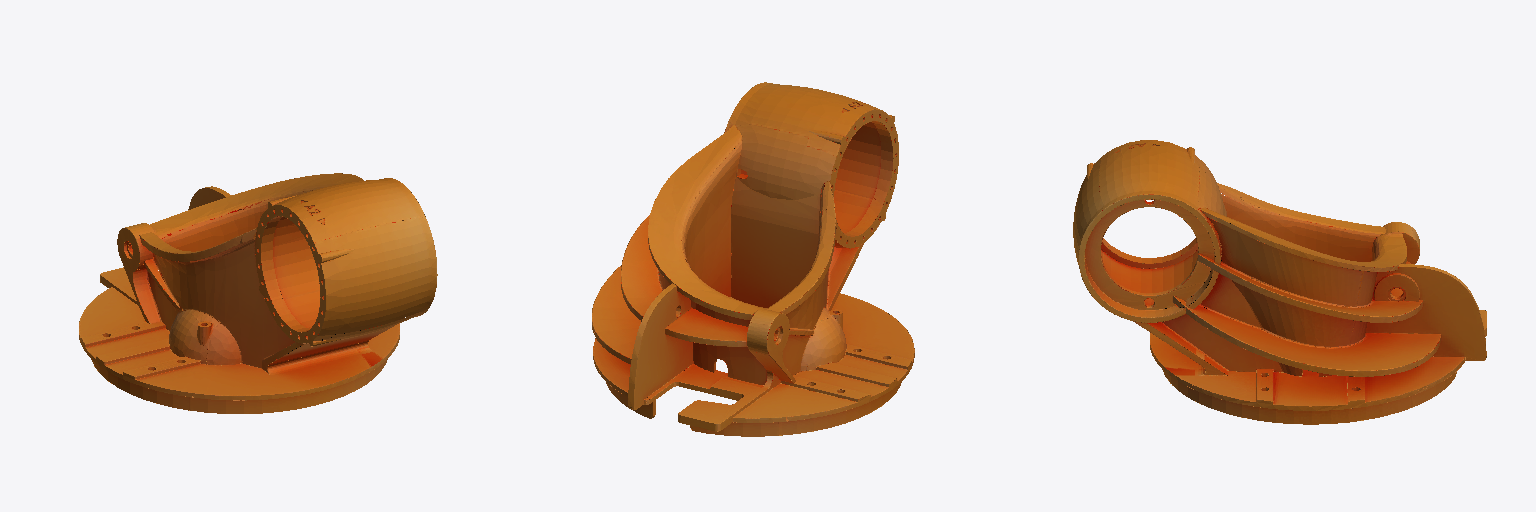
The picture shows the model from 3 angles: view 1: azimuth 30°, elevation 25°; view 2: azimuth 150°, elevation 25°; view 3: azimuth 270°, elevation 25°; orthographic projection.
Parts seen in each view (by area): view 1: Body_1_Body_1.001; view 2: Body_1_Body_1.001; view 3: Body_1_Body_1.001.
Part boxes in pixels (left/top/right/bottom): Body_1_Body_1.001: left=79, top=173, right=437, bottom=413; Body_1_Body_1.001: left=592, top=82, right=914, bottom=436; Body_1_Body_1.001: left=1073, top=140, right=1486, bottom=424.
Bounding box in the file's own units: 1.25 × 0.9013 × 1.59.
1 materials, 1 textured.